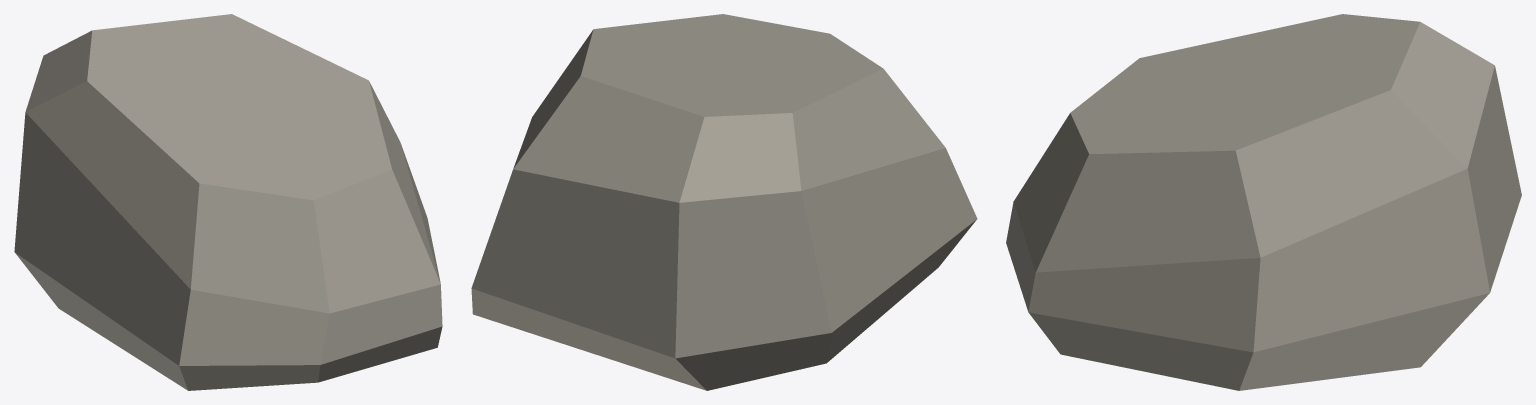
The model's file is Rock.fbx.
3 views of the same model, side by side, from view 1: azimuth 30°, elevation 25°; view 2: azimuth 150°, elevation 25°; view 3: azimuth 270°, elevation 25° (orthographic). The views are drawn at different scales.
Parts seen in each view (by area): view 1: Rock; view 2: Rock; view 3: Rock.
Part boxes in pixels (bbox=[...]): Rock: bbox=[14, 14, 442, 390]; Rock: bbox=[471, 14, 977, 390]; Rock: bbox=[1006, 14, 1521, 390].
Bounding box in the file's own units: 126 × 80.34 × 153.
